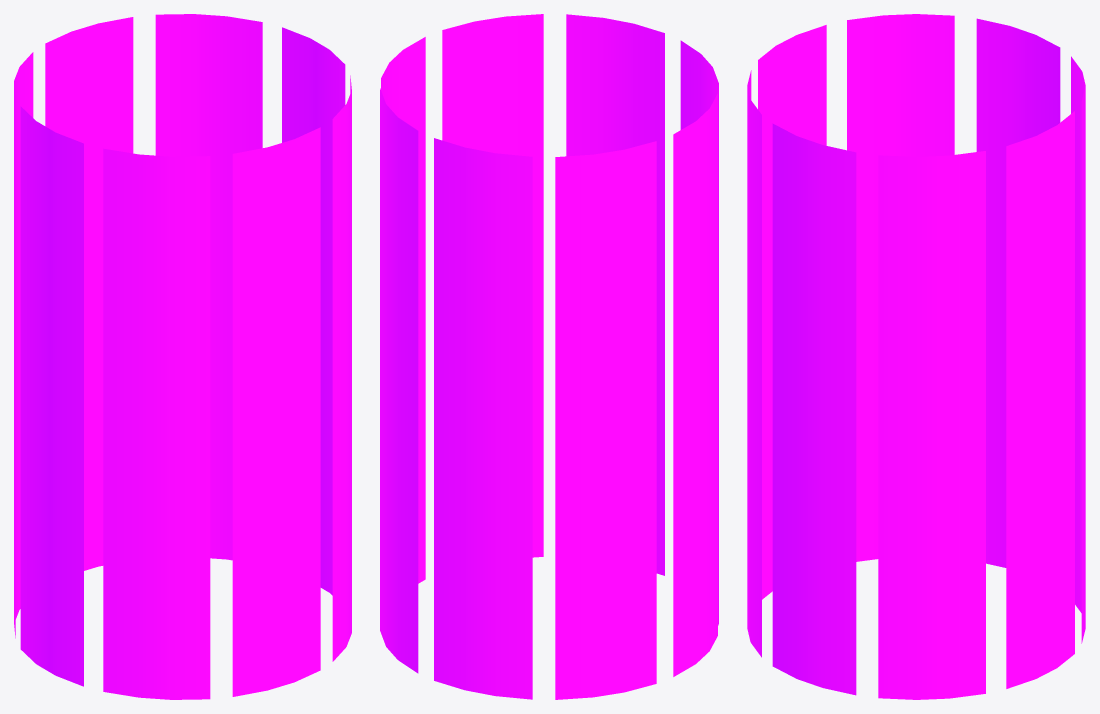
Rendered from WeaponLights.gltf.
The picture shows the model from 3 angles, left to right: view 1: azimuth 30°, elevation 25°; view 2: azimuth 150°, elevation 25°; view 3: azimuth 270°, elevation 25°; orthographic projection.
Visible parts, largest first — view 1: WeaponLights; view 2: WeaponLights; view 3: WeaponLights.
Part boxes in pixels (x1,y1,x2,y2): WeaponLights: (14, 14, 351, 699); WeaponLights: (380, 14, 718, 699); WeaponLights: (747, 14, 1085, 699).
Bounding box in the file's own units: 2.31 × 4.09 × 2.31.
